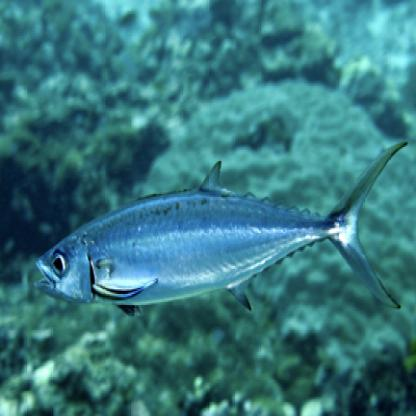Scombridae -Tunas-: (30, 131, 412, 323)
